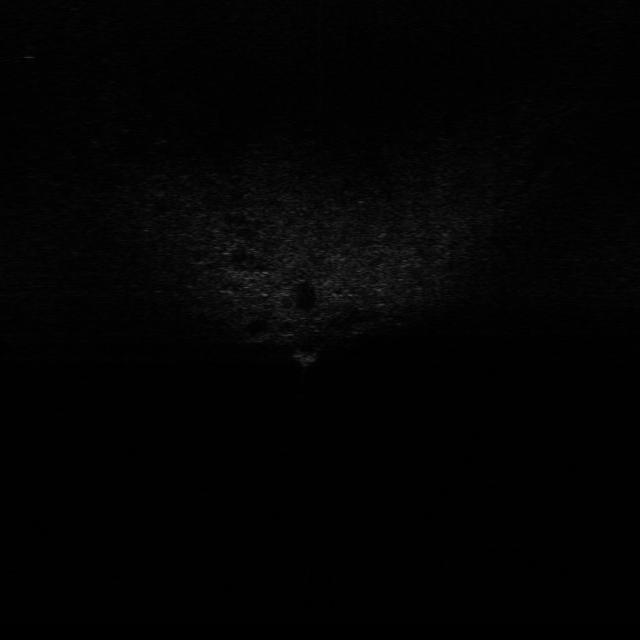cube: (290, 346, 324, 368)
